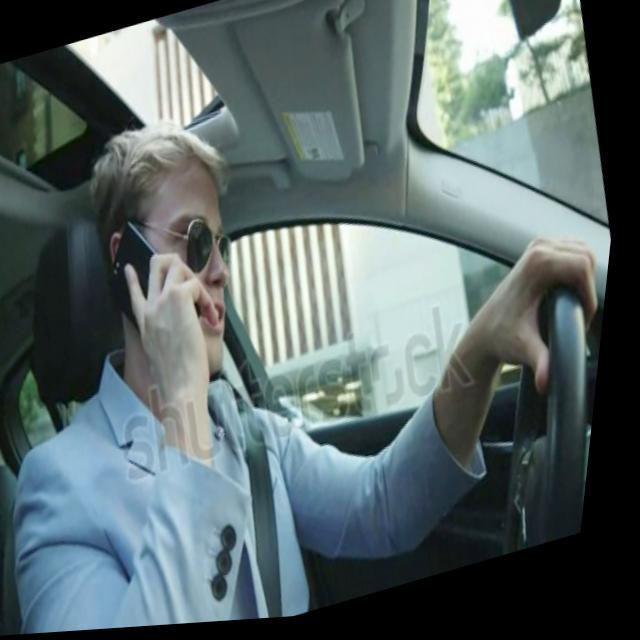PhoneCall: (98, 202, 222, 374)
